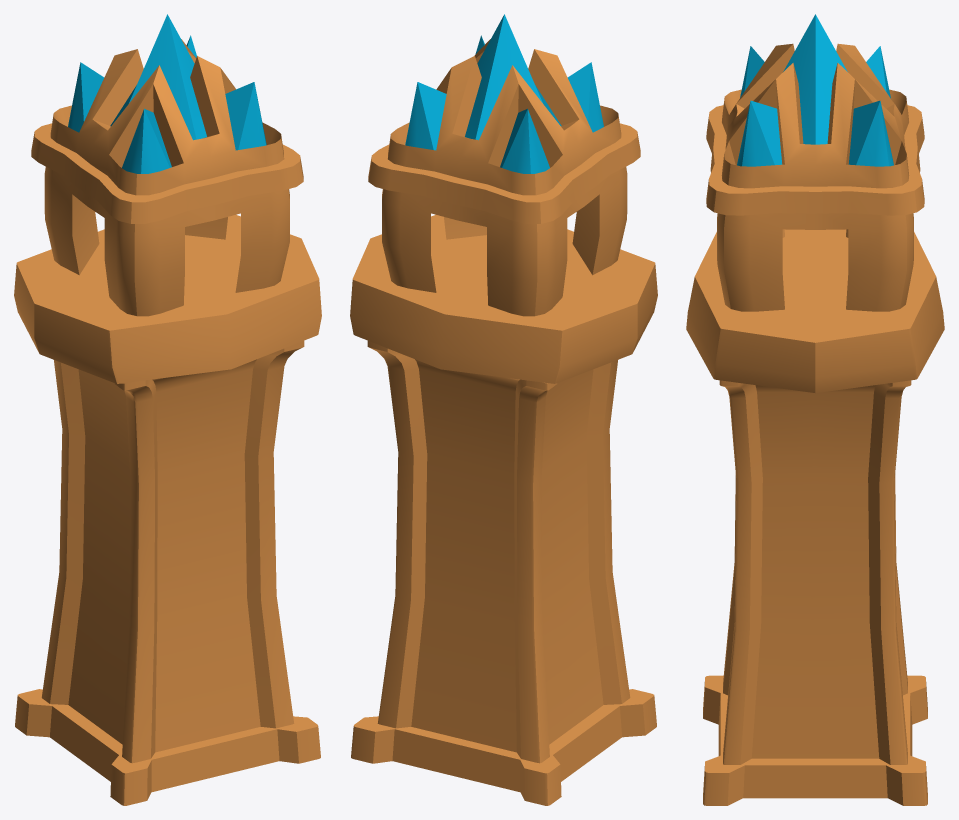
File: Tower5.fbx
3 renders of one model, left to right at view 1: azimuth 30°, elevation 25°; view 2: azimuth 150°, elevation 25°; view 3: azimuth 270°, elevation 25°, orthographic.
Parts seen in each view (by area): view 1: Tower5; view 2: Tower5; view 3: Tower5.
Boxes of the visible parts, x1,y1,x2,y2 form: Tower5: (14,14,321,805); Tower5: (350,14,657,805); Tower5: (686,14,944,805).
Bounding box in the file's own units: 1088 × 2834 × 895.
